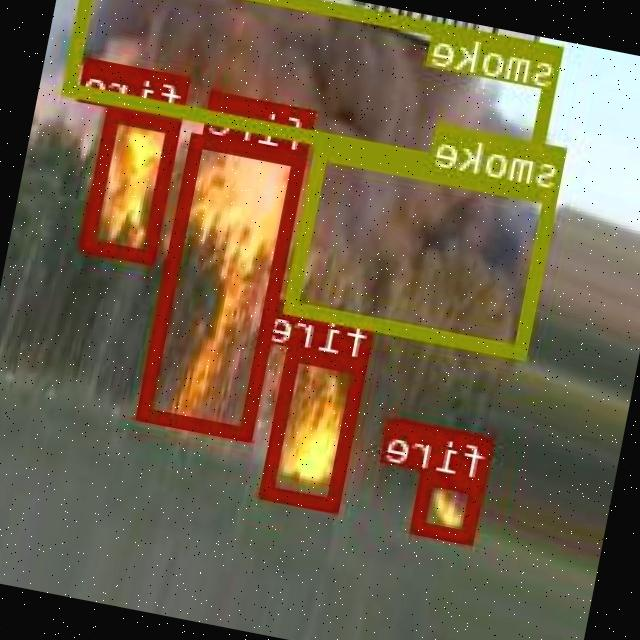fire: (141, 132, 310, 440), (263, 346, 371, 511), (85, 106, 183, 262), (414, 470, 487, 542)
smoke: (66, 0, 567, 186), (288, 145, 562, 357)
